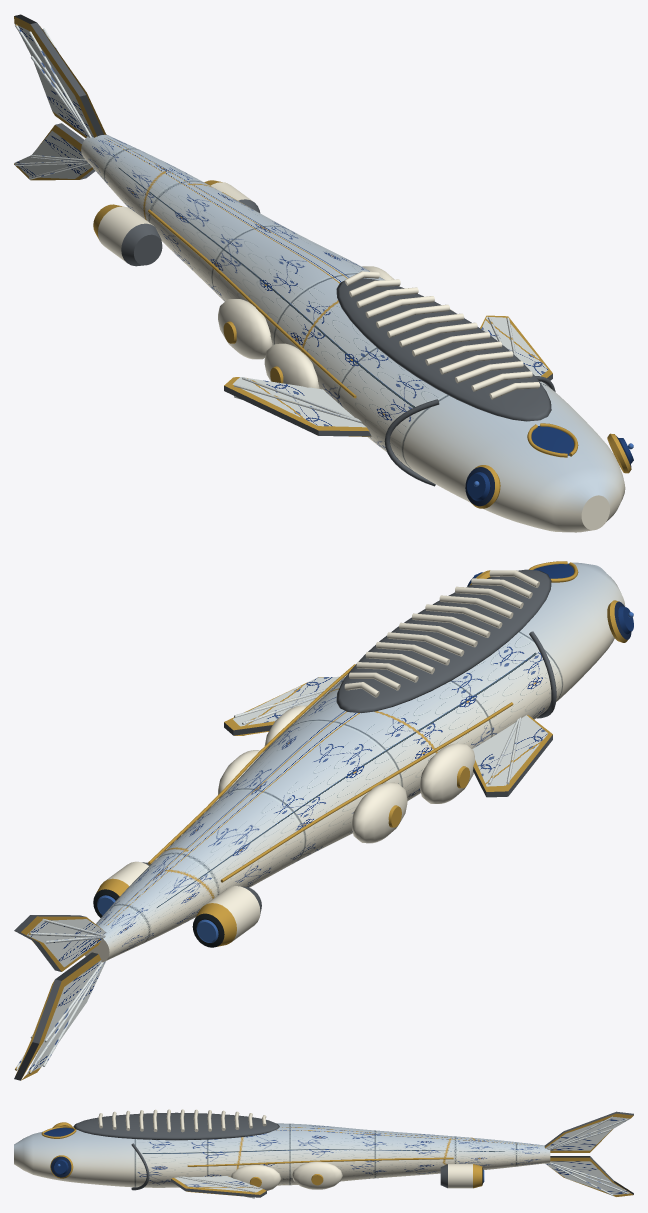
3 views of the same model, one above another, from view 1: azimuth 30°, elevation 25°; view 2: azimuth 150°, elevation 25°; view 3: azimuth 270°, elevation 25° (orthographic). The views are drawn at different scales.
Visible parts, largest first — view 1: remora_hull; view 2: remora_hull; view 3: remora_hull.
Part boxes in pixels (x1,y1,x2,y2): remora_hull: (14,14,633,532); remora_hull: (14,561,633,1080); remora_hull: (14,1109,633,1198).
Size of the model in its own units: 10.78 by 5.66 by 38.
Materials: 1 (1 with a texture image).
